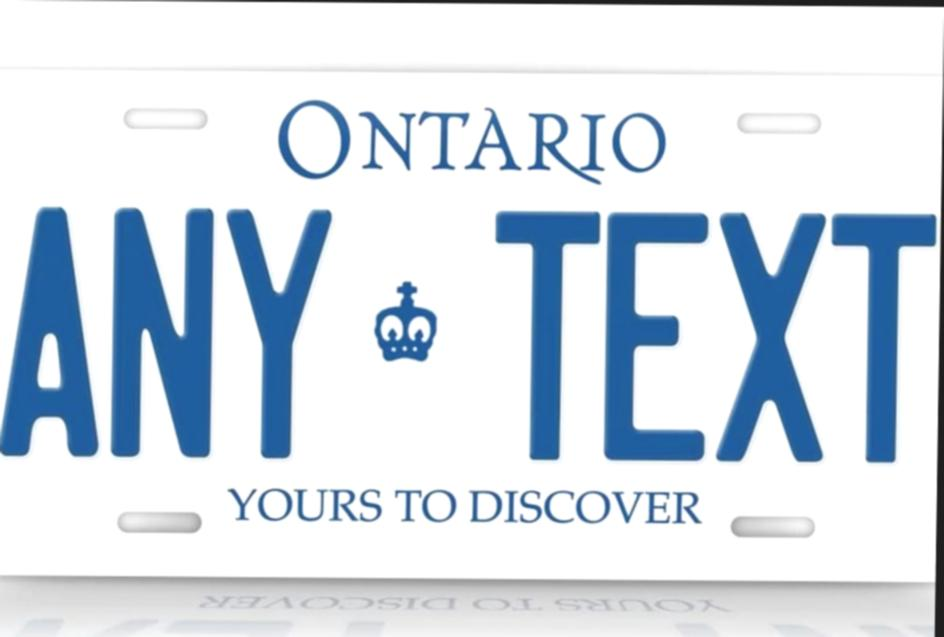License_Plate: (0, 68, 942, 583)
